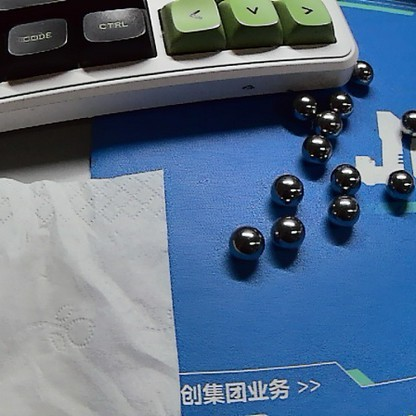ironball: (225, 218, 270, 258), (265, 165, 303, 205), (380, 164, 415, 204), (293, 130, 333, 164), (264, 215, 303, 248), (345, 52, 383, 85), (290, 89, 325, 120), (328, 161, 360, 189), (326, 193, 356, 222), (313, 105, 344, 133), (393, 101, 414, 140), (333, 90, 358, 118)
